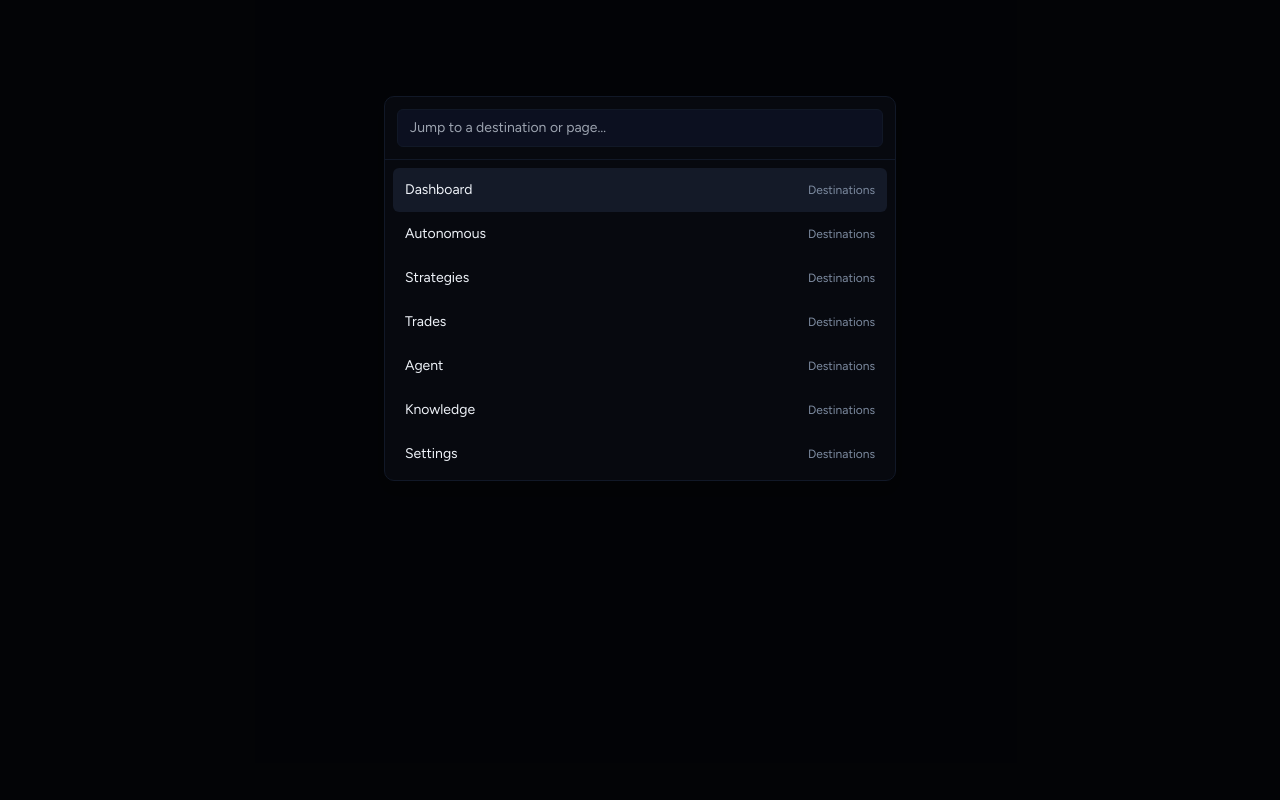
CommandMenu keyboard interaction (FP2-202) › resets the active option to the first match when the query changes
The image size is (1280, 800).
Press End in the dropdown named "Filter command menu", box [397,109,883,147]
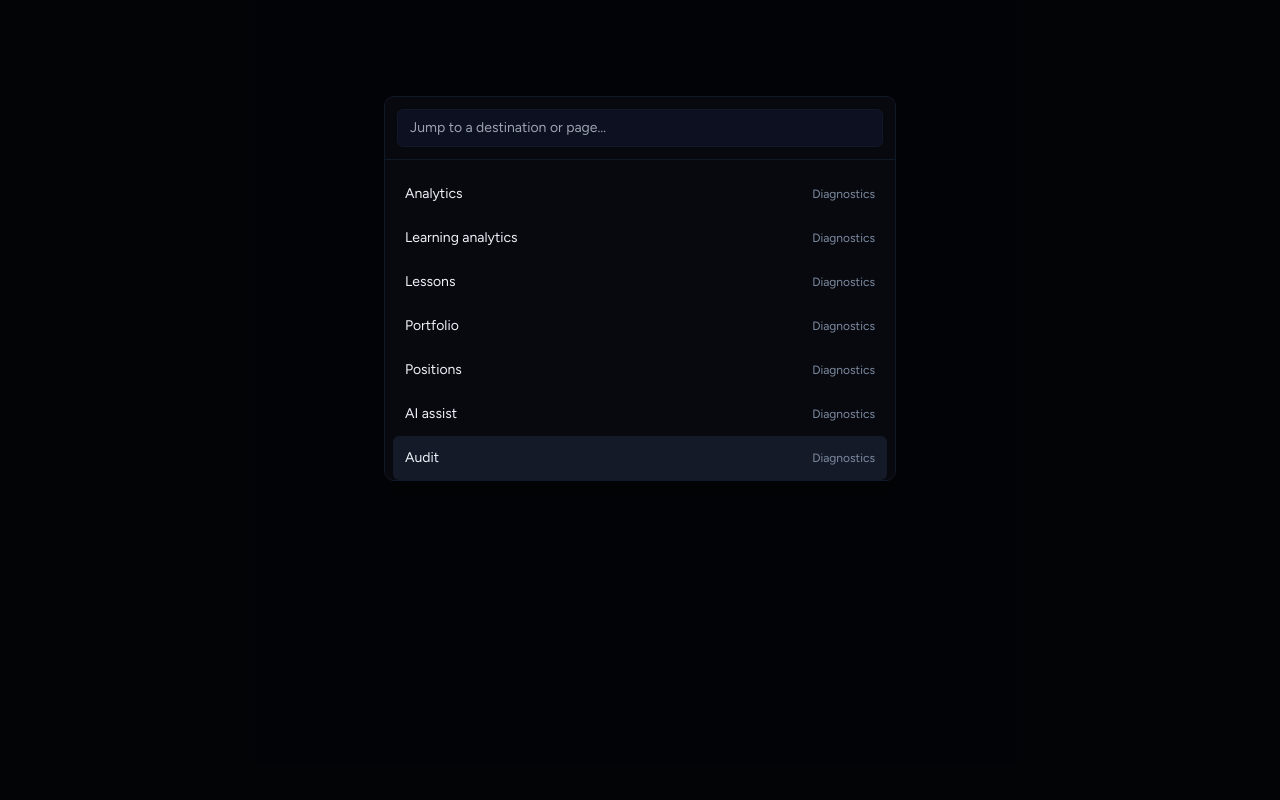
Type "port" into the dropdown named "Filter command menu" at (640, 128), box [397,109,883,147]
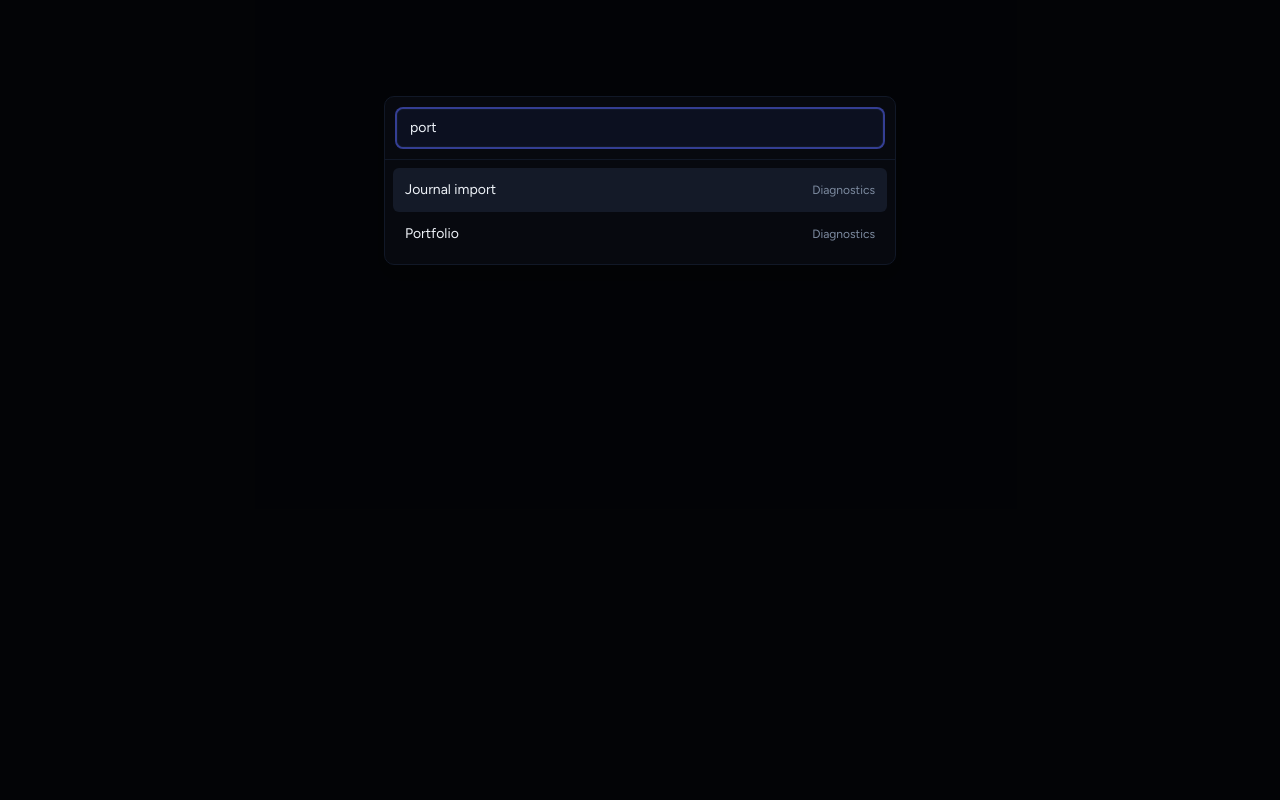
Now the option "Journal import Diagnostics" is shown, box [393,168,887,212]
